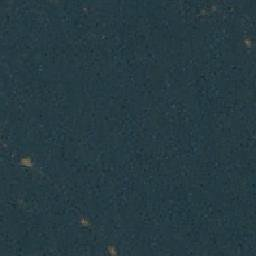debris: (18, 157, 37, 169), (103, 245, 121, 255), (78, 216, 90, 228)
